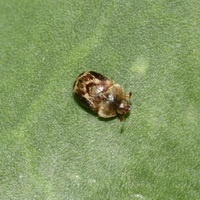insect: (73, 71, 131, 117)
